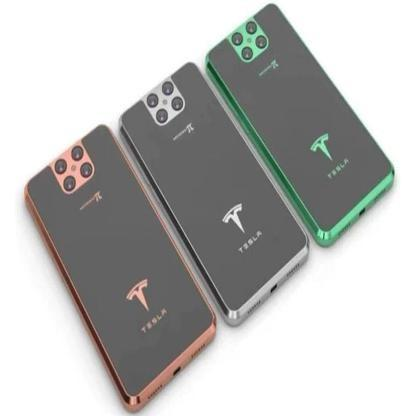not trash: (23, 127, 217, 403), (115, 59, 309, 324), (208, 3, 396, 248)
